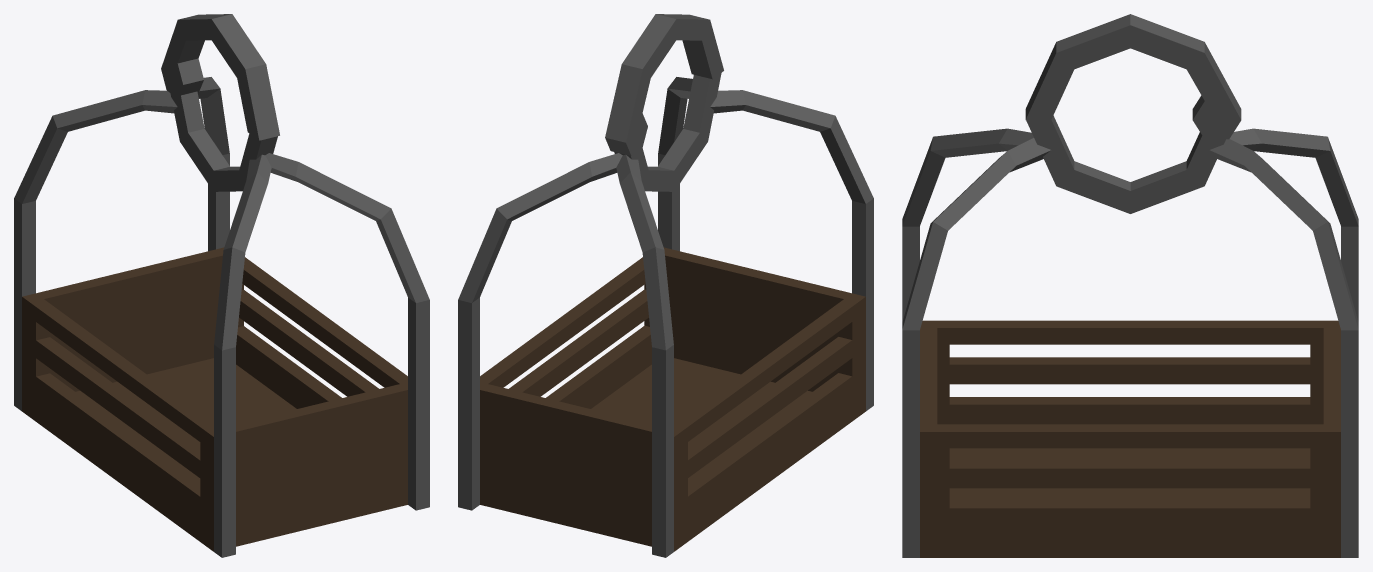
Rendered from CrateTest.fbx.
The picture shows the model from 3 angles, left to right: view 1: azimuth 30°, elevation 25°; view 2: azimuth 150°, elevation 25°; view 3: azimuth 270°, elevation 25°; orthographic projection. The views are drawn at different scales.
Visible parts, largest first — view 1: Crate, Cylinder; view 2: Crate, Cylinder; view 3: Crate, Cylinder.
Part boxes in pixels (<box>): Crate: <box>14,77,429,557</box>; Cylinder: <box>161,14,279,140</box>; Crate: <box>458,73,873,557</box>; Cylinder: <box>605,14,723,155</box>; Crate: <box>902,115,1358,557</box>; Cylinder: <box>1025,14,1241,139</box>.
Bounding box in the file's own units: 150 × 303 × 260.
